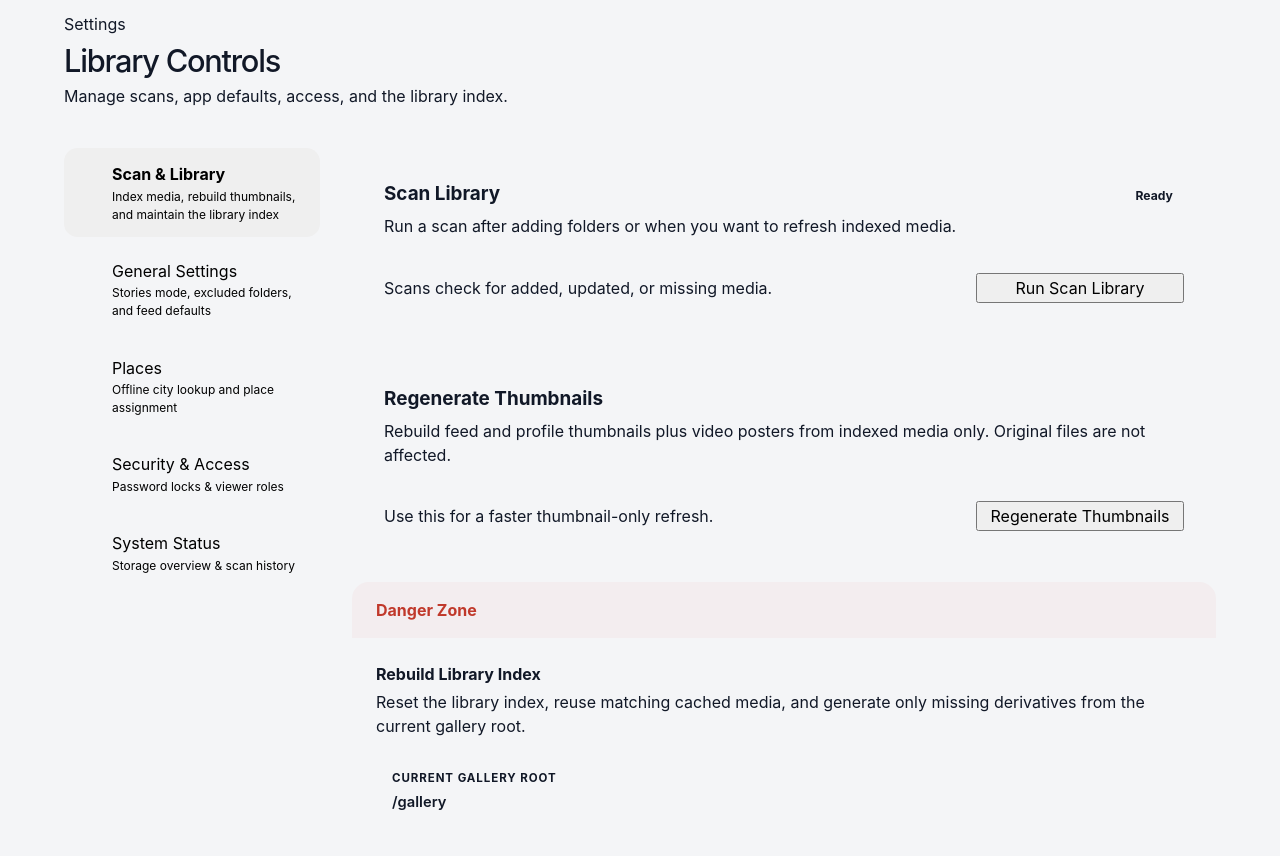
Test: SettingsView › switches the client locale from the General Settings language selector
The width and height of the screenshot is (1280, 856).
Click the button that starts with "General Settings": {"x": 192, "y": 290} [64, 245, 320, 334]
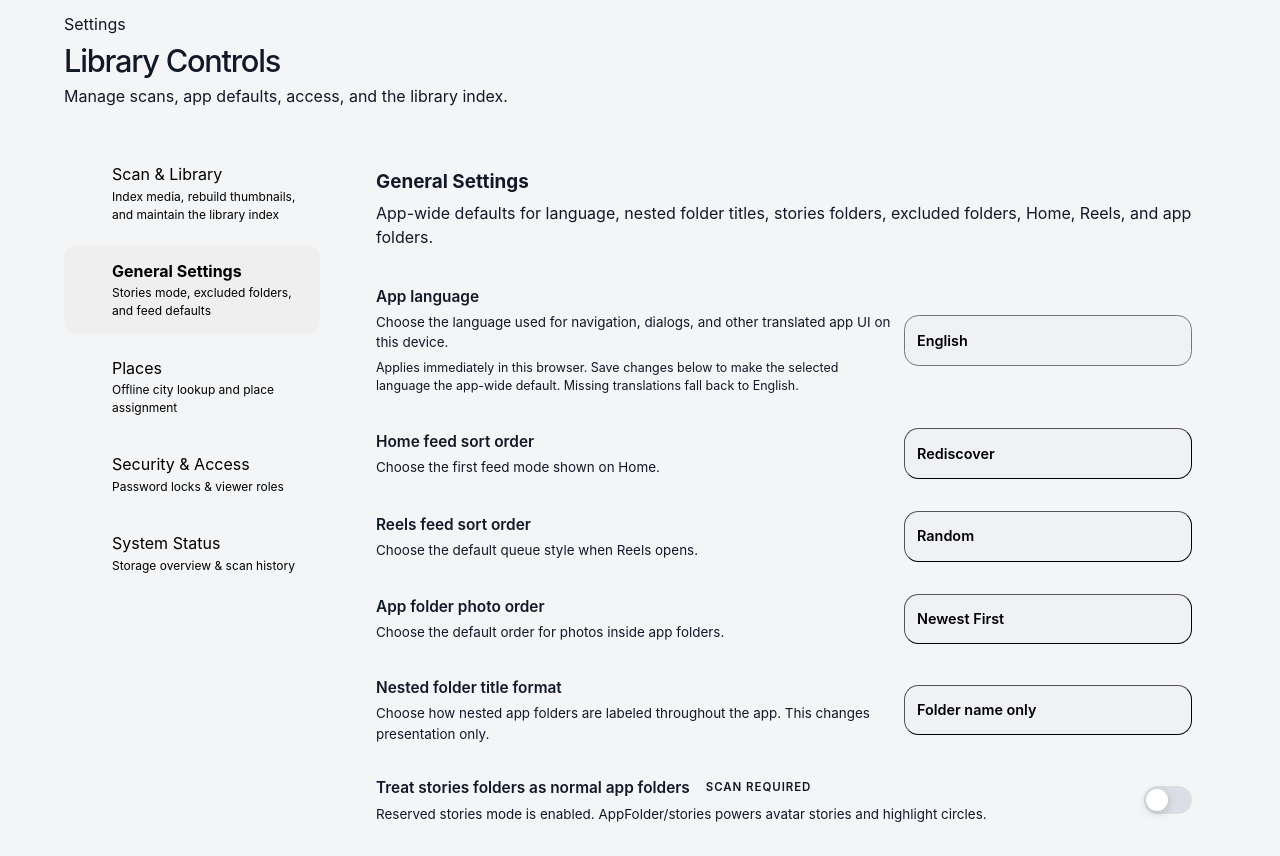
Now the dropdown shows "English"
Select "Spanish" in the dropdown: {"x": 1048, "y": 340} [904, 315, 1192, 366]
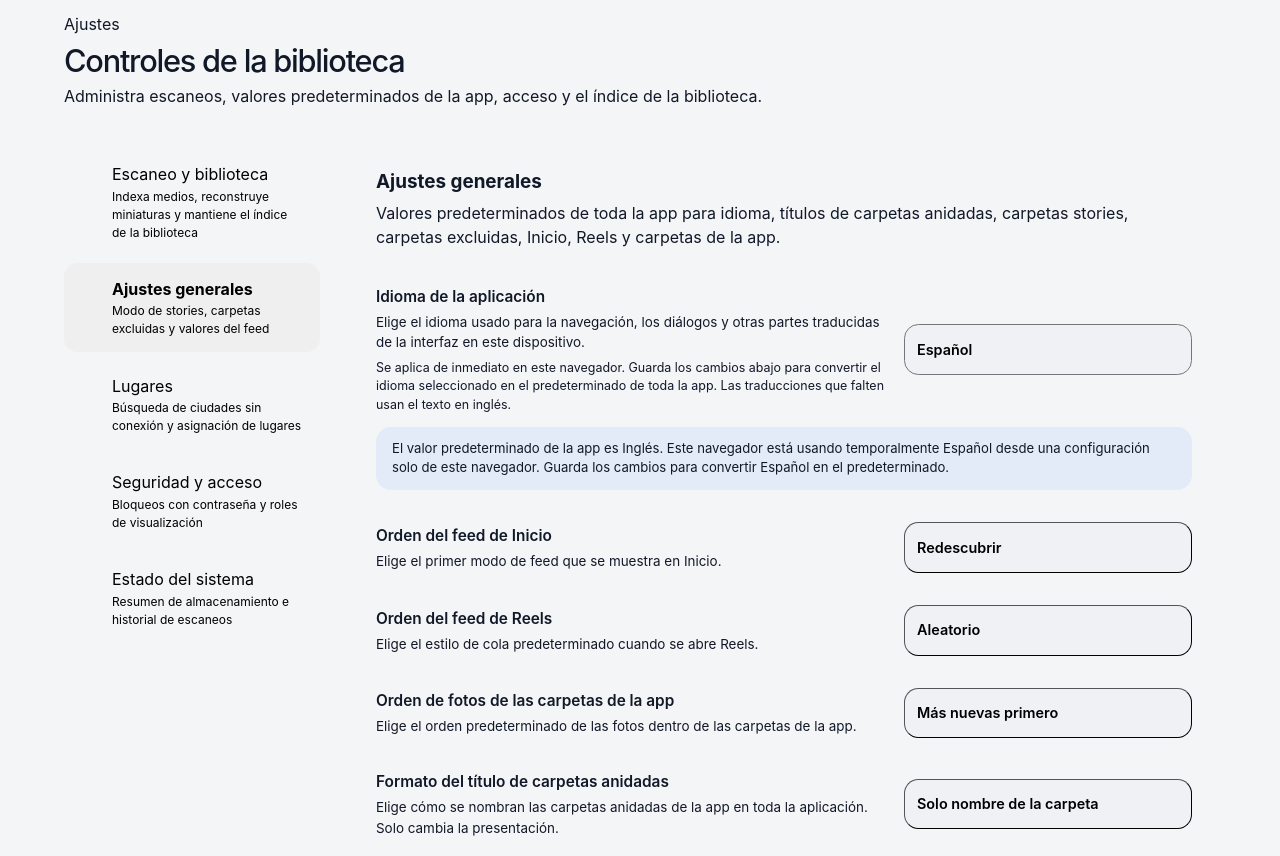
Now the text "Idioma de la aplicación" is shown, box [376, 287, 545, 306]
Now the text "Controles de la biblioteca" is shown, box [64, 42, 404, 79]
